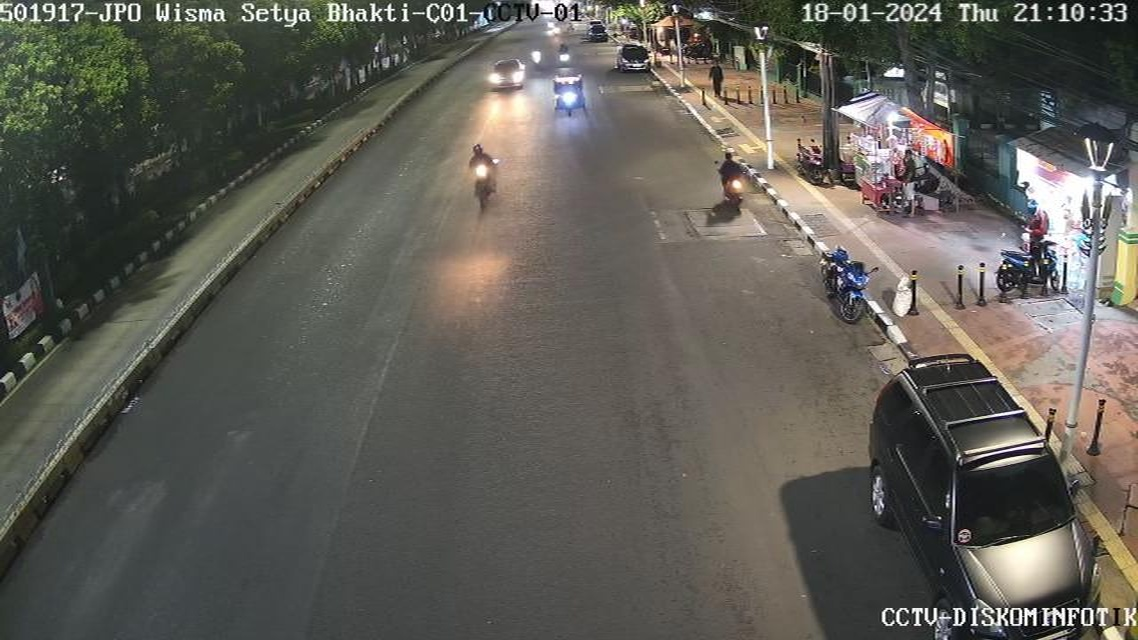Emperan: (998, 110, 1138, 294), (852, 129, 926, 222)
